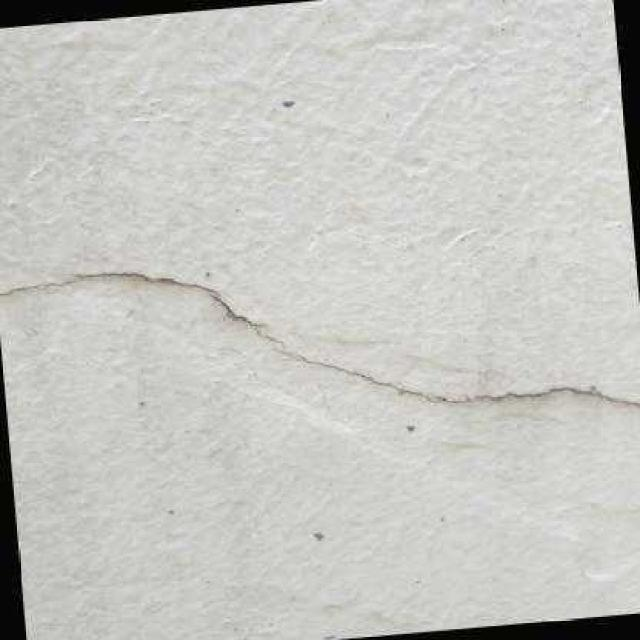D00: (0, 271, 640, 405)
